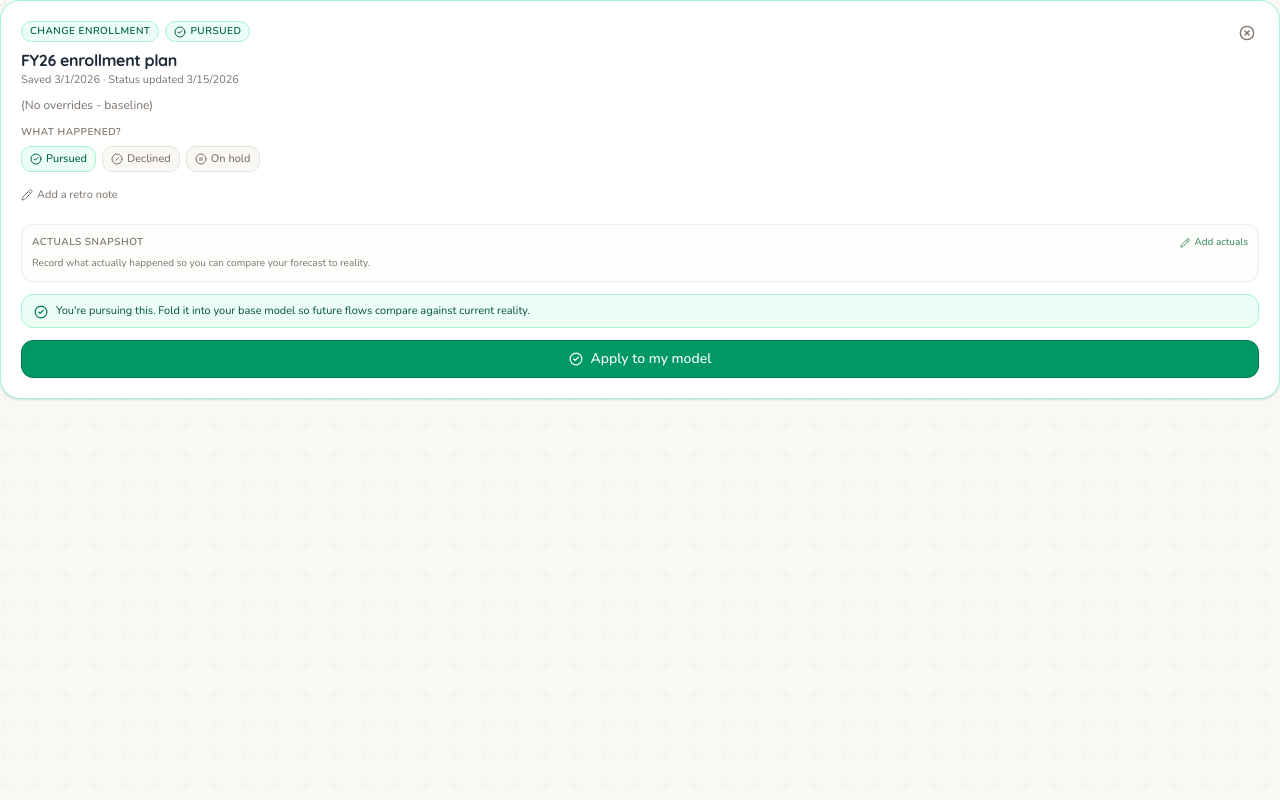
Test: CustomScenarioCard — live-snapshot enrollment subtitle › renders the From <provider> tag <name> subtitle after suggesting from a live sync
Click the button with test id "custom-scenario-actuals-edit-0": (1214, 242) [1180,235,1248,250]
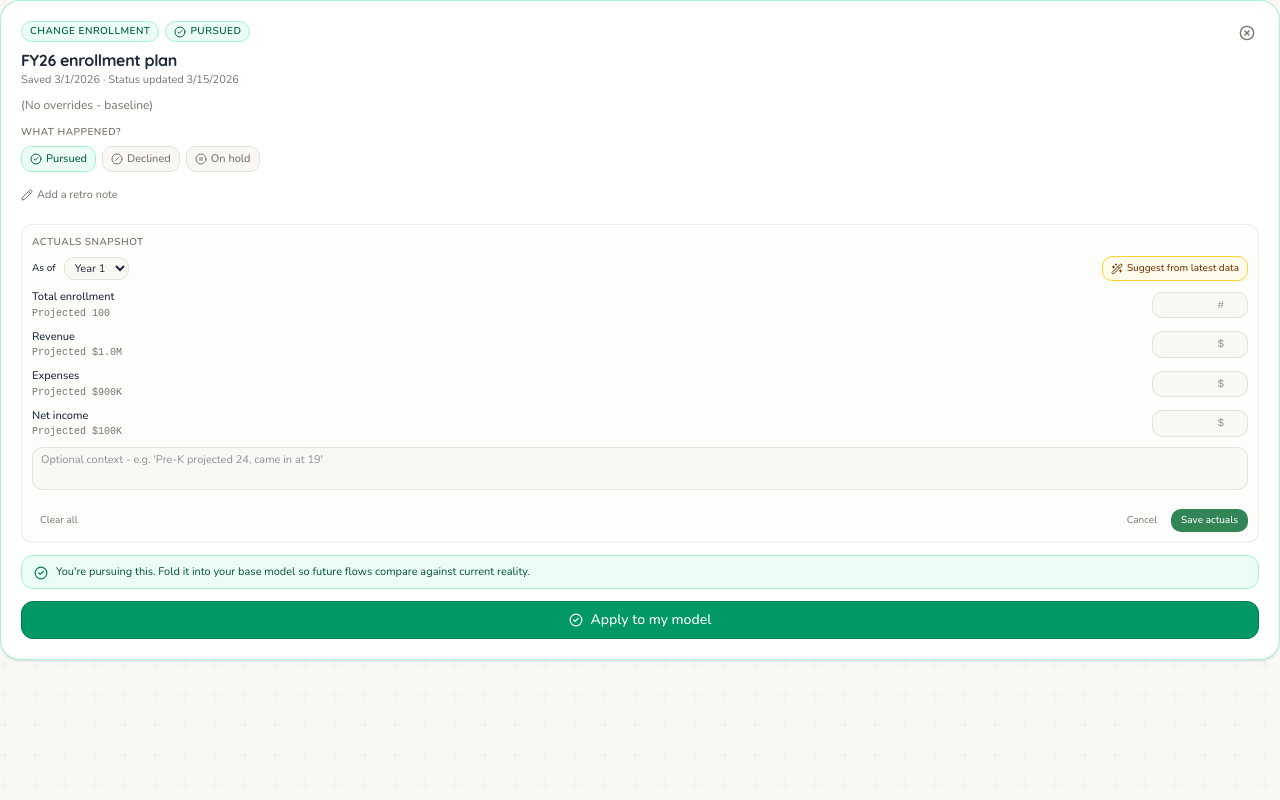
Click the button with test id "custom-scenario-actuals-suggest-0": (1175, 268) [1102,256,1248,281]
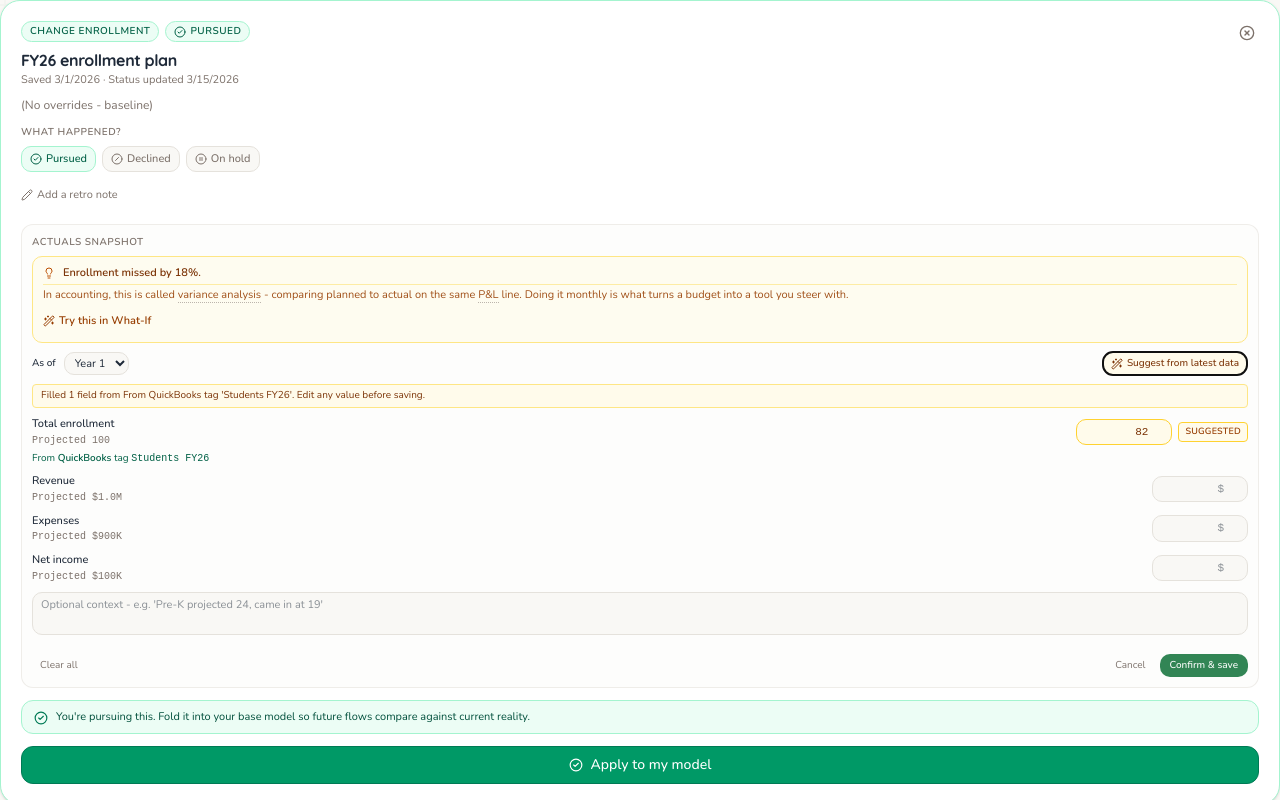
Now the element with test id "custom-scenario-actuals-enrollment-0-live-snapshot" is shown, box [32,450,209,464]
Now the text with test id "custom-scenario-actuals-enrollment-0-live-snapshot-provider" reads "QuickBooks", box [58,450,111,464]
Now the text with test id "custom-scenario-actuals-enrollment-0-live-snapshot-tag" reads "Students FY26", box [131,452,209,464]
